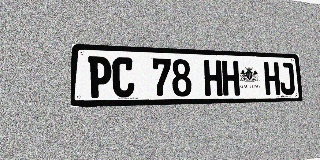7: (151, 58, 172, 97)
8: (172, 59, 192, 97)
C: (112, 57, 135, 98)
H: (204, 60, 223, 96), (222, 60, 240, 96), (264, 62, 280, 95)
J: (279, 62, 295, 95)
P: (88, 56, 111, 98)
